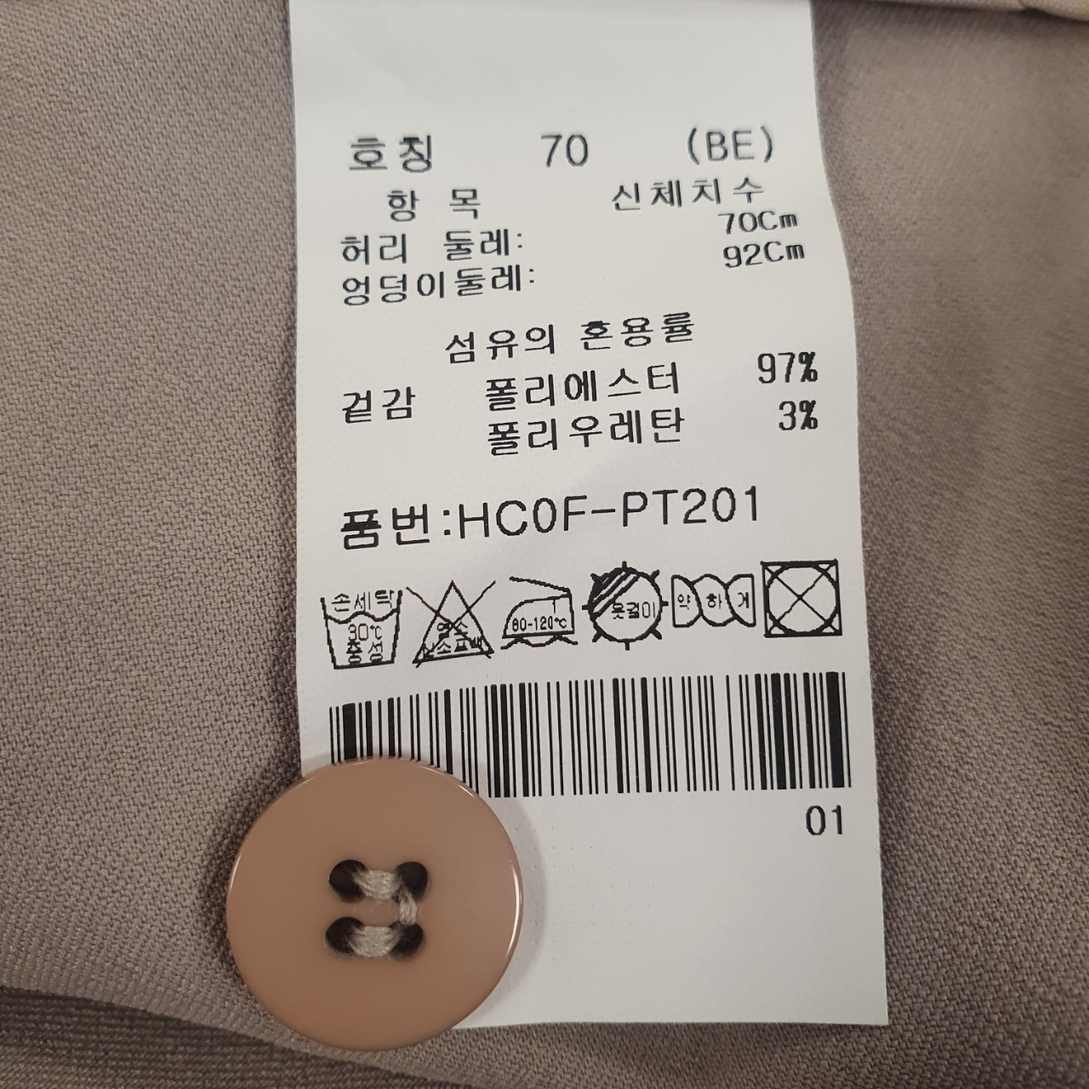KR_gentle_wring: (668, 570, 759, 632)
KR_hand_wash_30_neutral: (317, 583, 406, 674)
KR_hang_dry_in_shade: (578, 561, 673, 652)
KR_iron_low_temp_with_cloth: (492, 574, 584, 653)
KR_no_bleach: (406, 582, 498, 664)
KR_no_tumble_dry: (757, 552, 850, 643)
